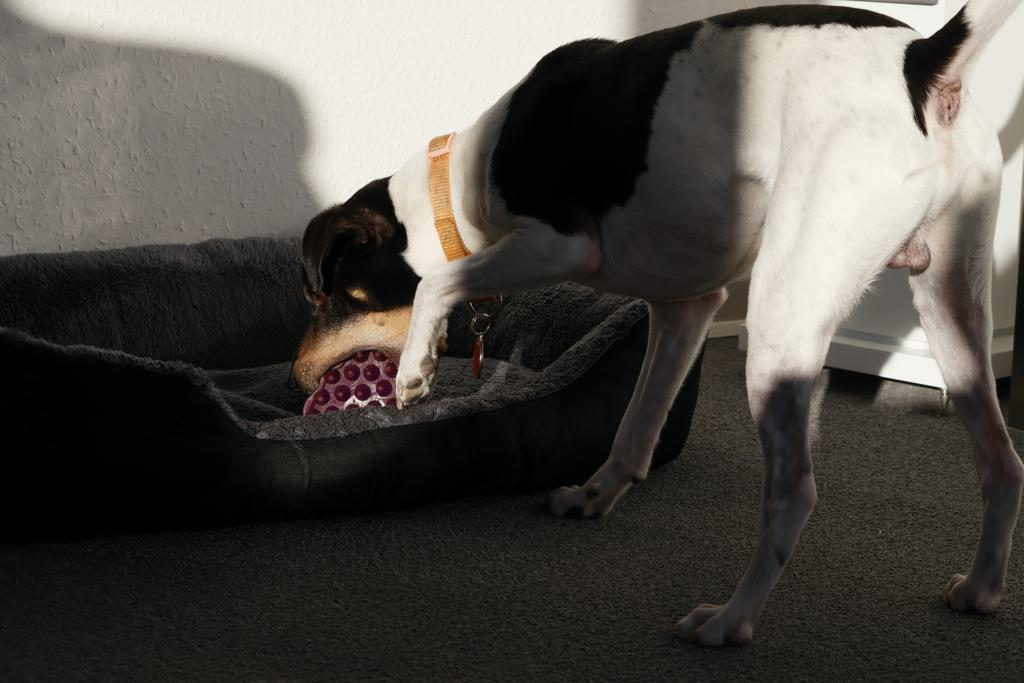Dog: (276, 0, 1024, 656)
